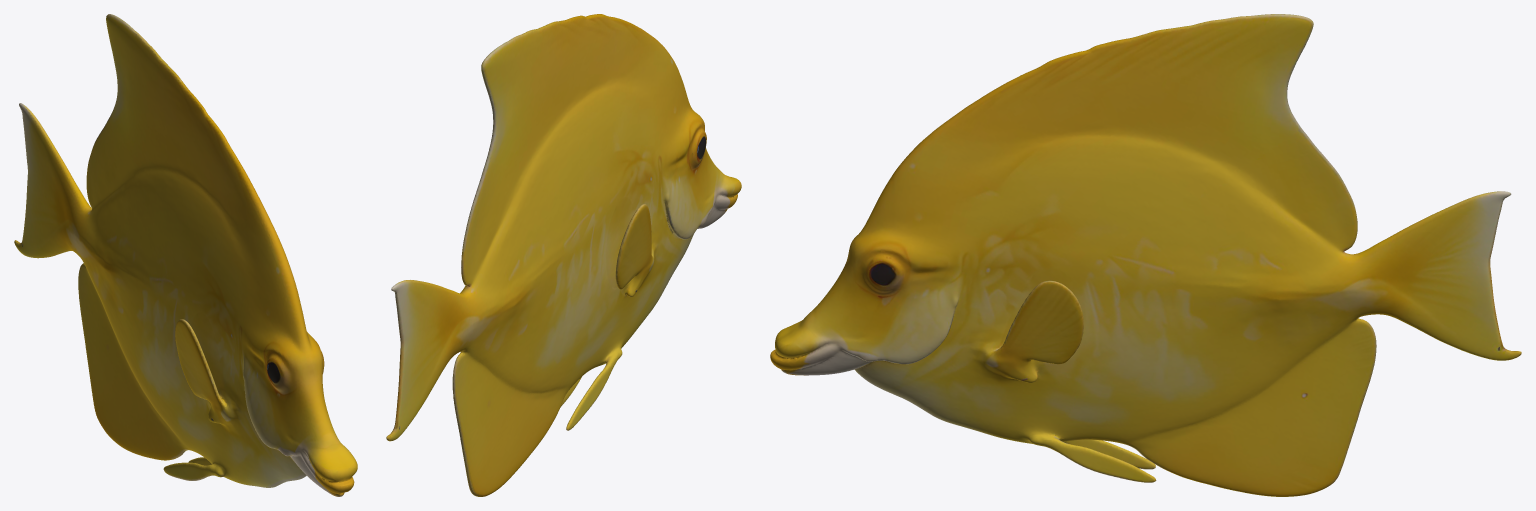
The model's file is trop_yellow_tang.glb.
3 views of the same model, side by side, from view 1: azimuth 30°, elevation 25°; view 2: azimuth 150°, elevation 25°; view 3: azimuth 270°, elevation 25° (orthographic). The views are drawn at different scales.
Parts seen in each view (by area): view 1: tripo_node_0b1861a2-000d-45ac-89ee-d585d72f2e7b; view 2: tripo_node_0b1861a2-000d-45ac-89ee-d585d72f2e7b; view 3: tripo_node_0b1861a2-000d-45ac-89ee-d585d72f2e7b.
Part boxes in pixels (<box>): tripo_node_0b1861a2-000d-45ac-89ee-d585d72f2e7b: <box>14,14,357,496</box>; tripo_node_0b1861a2-000d-45ac-89ee-d585d72f2e7b: <box>386,14,741,496</box>; tripo_node_0b1861a2-000d-45ac-89ee-d585d72f2e7b: <box>770,14,1521,496</box>.
Size of the model in its own units: 0.137 by 0.709 by 1.
1 material, 1 textured.
